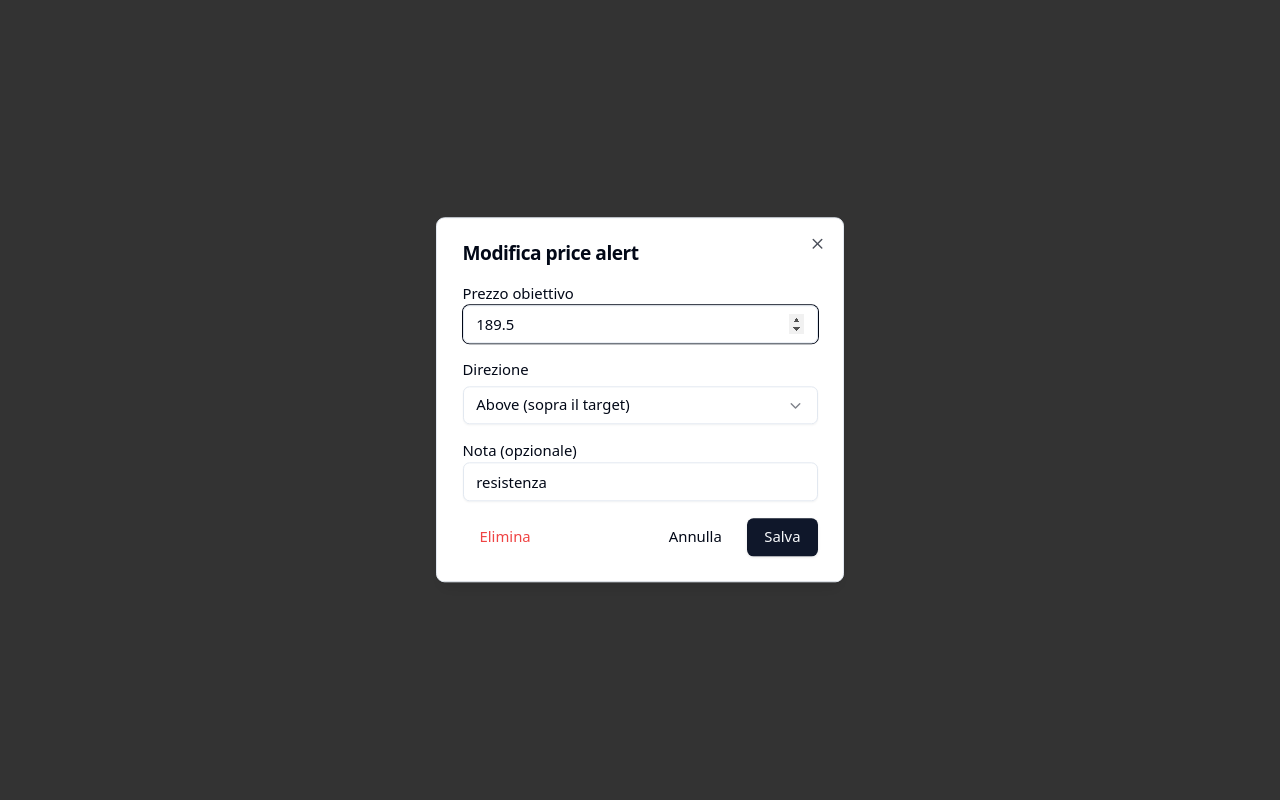
Scenario: deleting asks first, because it cannot be undone › asks for confirmation in place
Click the button "Elimina".
click(505, 537)  # box [462,518,548,556]
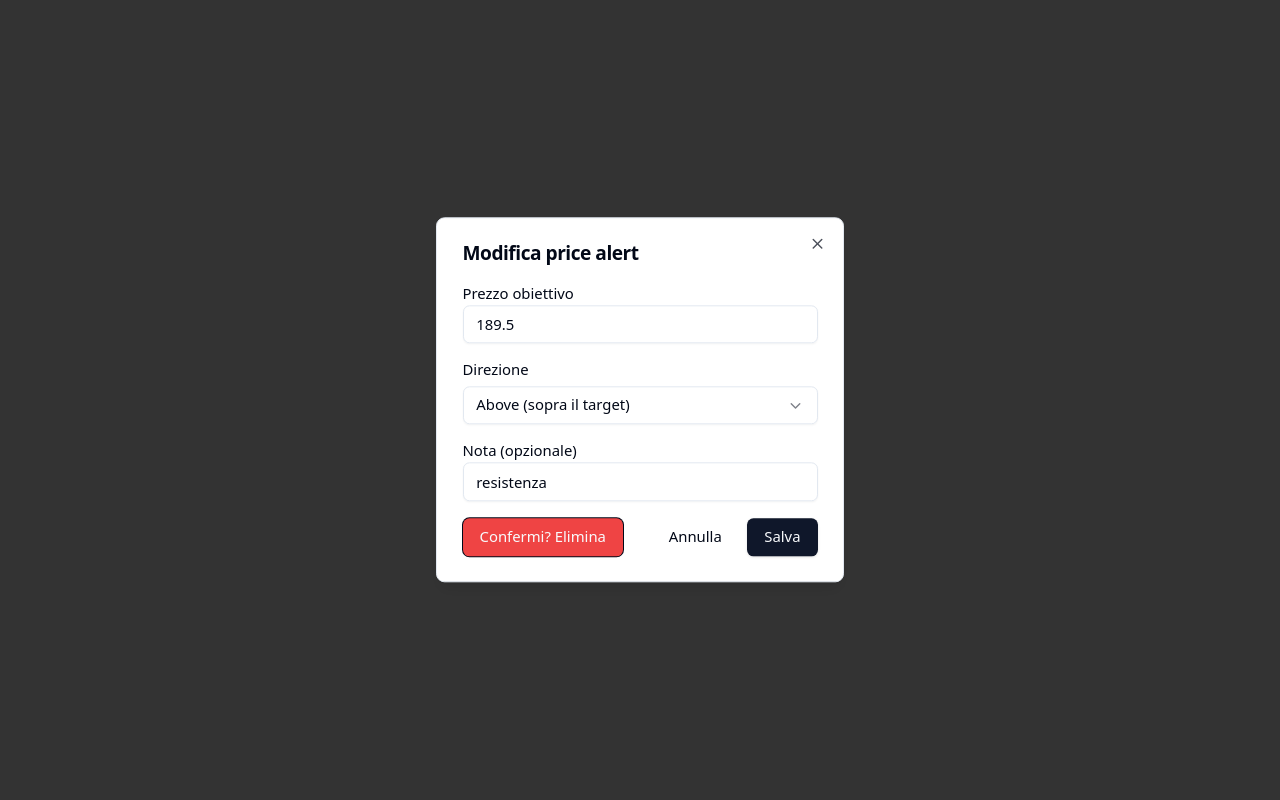
Now the button "Confermi? Elimina" is shown, box [462,518,623,556]
